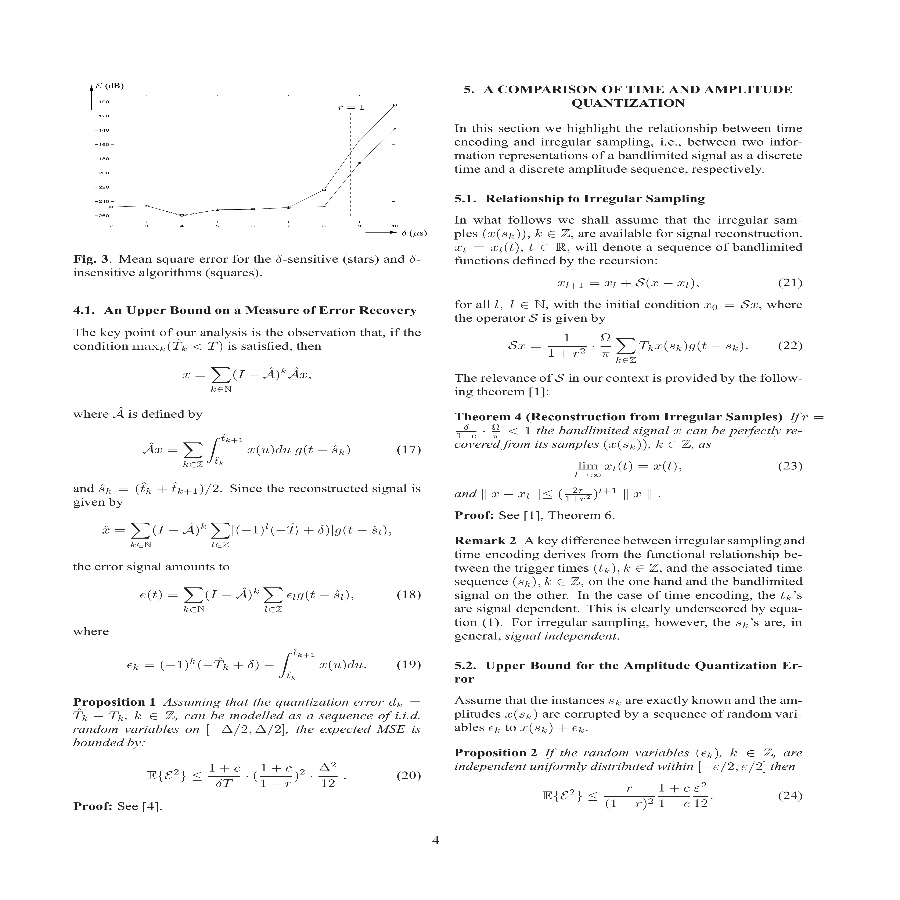eq: (99, 520, 387, 550), (124, 647, 363, 683), (139, 433, 356, 470), (506, 332, 746, 364), (137, 581, 350, 613), (144, 760, 342, 790), (537, 781, 709, 810), (178, 359, 308, 393), (482, 485, 654, 505), (554, 275, 696, 292), (572, 458, 680, 480)
